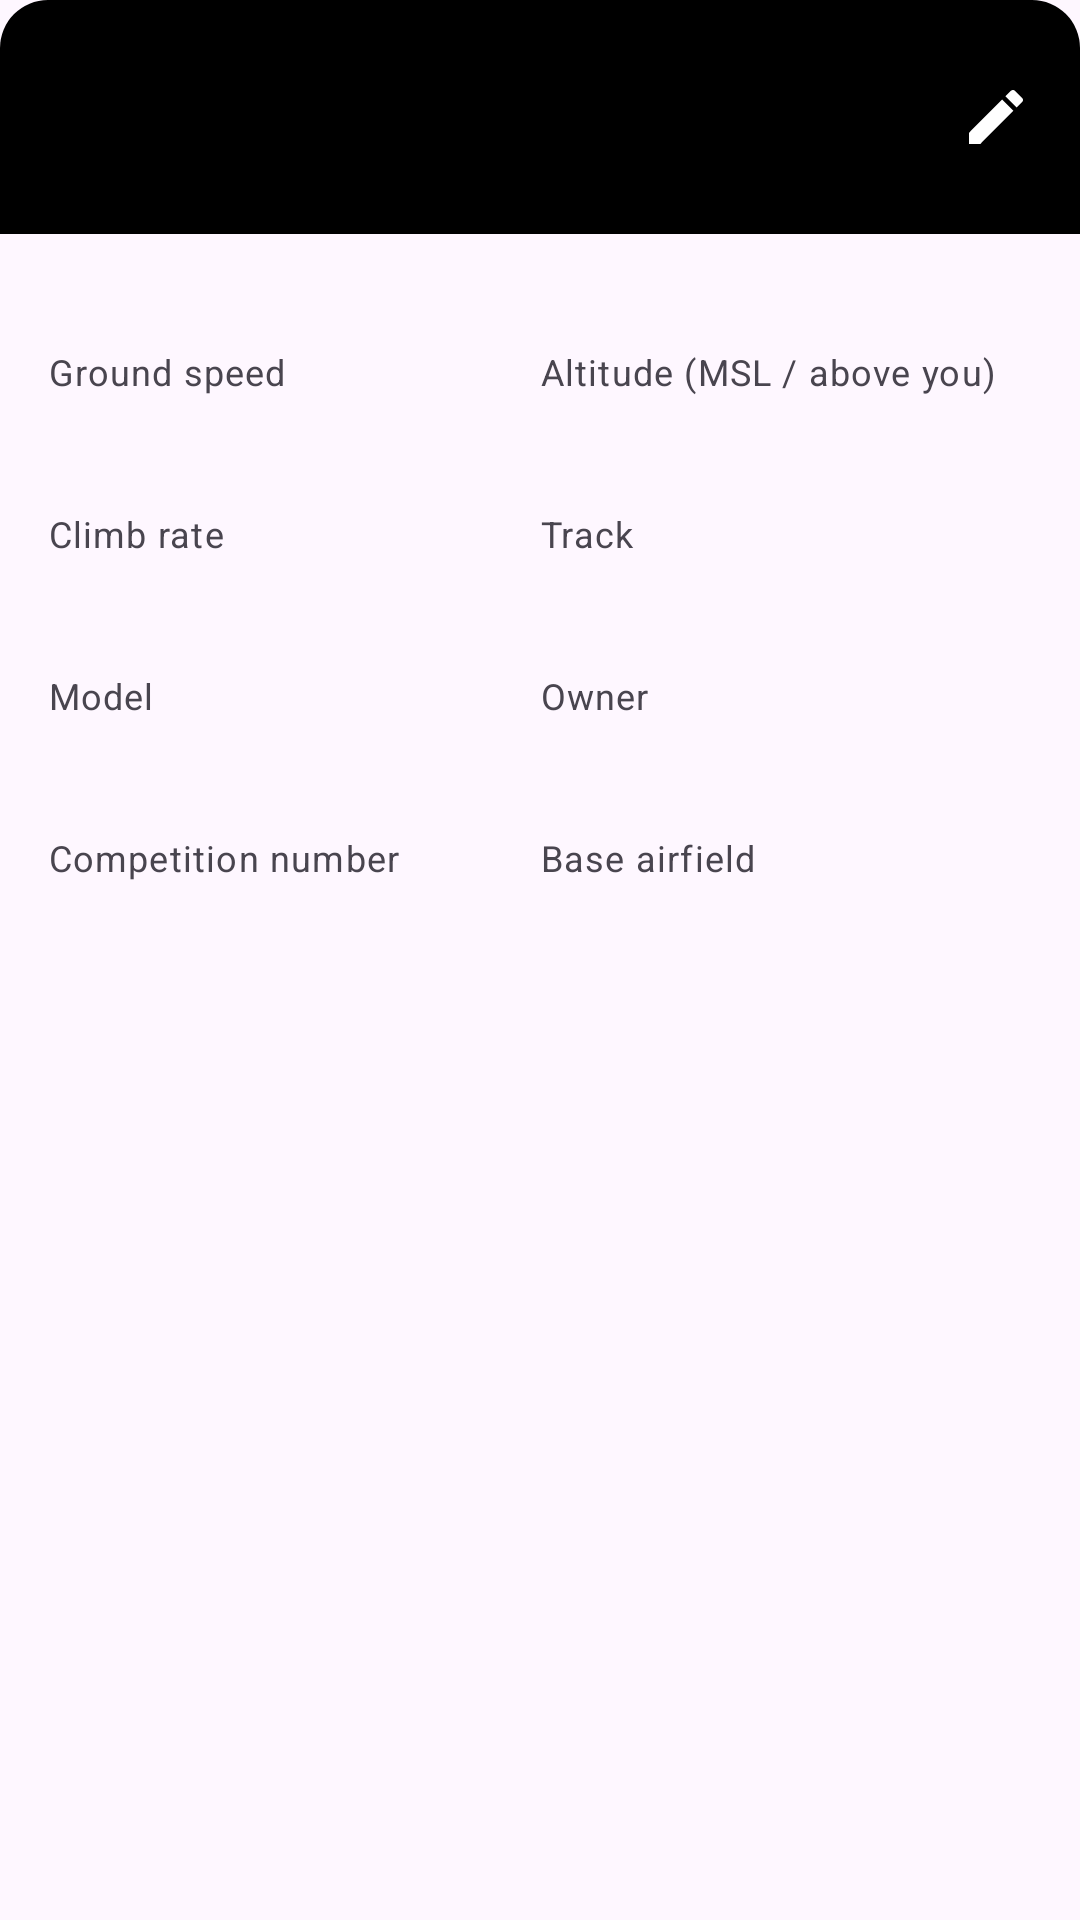

Icon bounding boxes for this 1080px×1920px phone screenshot, format (x1=x1, y1=y1, x2=x2, y2=y2):
Edit: (x1=969, y1=90, x2=1023, y2=144)
